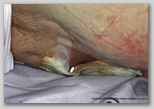NA: (59, 39, 143, 84)
